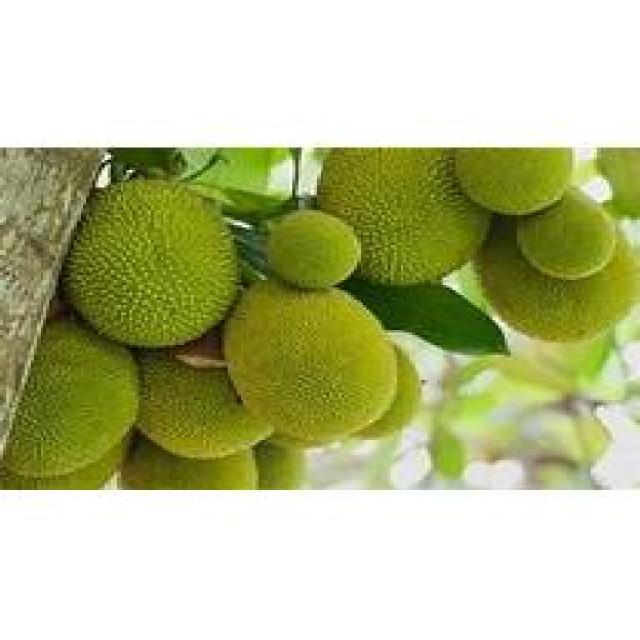Fruit: (210, 262, 416, 462), (52, 165, 250, 355), (298, 147, 498, 295)
